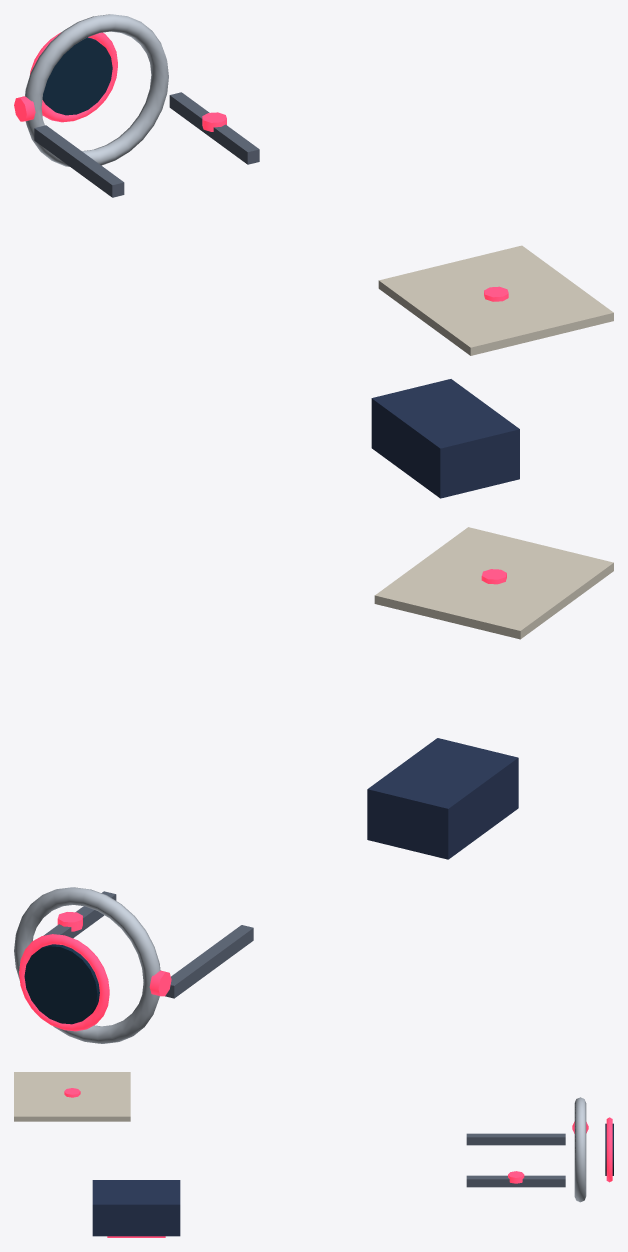
File: tower_filament_peak_s6.glb
The picture shows the model from 3 angles, top to bottom: view 1: azimuth 30°, elevation 25°; view 2: azimuth 150°, elevation 25°; view 3: azimuth 270°, elevation 25°; orthographic projection. The views are drawn at different scales.
Parts seen in each view (by area): view 1: filament_dielectric, filament_coupler, filament_aperture_ring, filament_lens_b, filament_lens_brace_r, filament_lens_brace_l, filament_lens_b_ring; view 2: filament_dielectric, filament_coupler, filament_aperture_ring, filament_lens_b, filament_lens_b_ring, filament_lens_brace_r, filament_lens_brace_l; view 3: filament_dielectric, filament_coupler, filament_aperture_ring, filament_lens_brace_r, filament_lens_brace_l, filament_lens_b_ring.
Part boxes in pixels (x1=…): filament_dielectric: x1=378, y1=245, x2=613, y2=355; filament_coupler: x1=371, y1=379, x2=519, y2=498; filament_aperture_ring: x1=25, y1=14, x2=168, y2=166; filament_lens_b: x1=42, y1=37, x2=112, y2=115; filament_lens_brace_r: x1=34, y1=125, x2=124, y2=197; filament_lens_brace_l: x1=169, y1=92, x2=259, y2=164; filament_lens_b_ring: x1=30, y1=32, x2=117, y2=122; filament_dielectric: x1=374, y1=527, x2=613, y2=639; filament_coupler: x1=367, y1=738, x2=518, y2=859; filament_aperture_ring: x1=14, y1=887, x2=160, y2=1043; filament_lens_b: x1=24, y1=944, x2=99, y2=1024; filament_lens_b_ring: x1=19, y1=934, x2=109, y2=1031; filament_lens_brace_r: x1=165, y1=925, x2=253, y2=998; filament_lens_brace_l: x1=43, y1=891, x2=116, y2=938; filament_dielectric: x1=14, y1=1072, x2=130, y2=1121; filament_coupler: x1=92, y1=1180, x2=180, y2=1236; filament_aperture_ring: x1=574, y1=1097, x2=586, y2=1202; filament_lens_brace_r: x1=466, y1=1133, x2=565, y2=1145; filament_lens_brace_l: x1=466, y1=1175, x2=565, y2=1187; filament_lens_b_ring: x1=606, y1=1117, x2=612, y2=1182.
Size of the model in its own units: 0.389 by 0.521 by 2.06.
